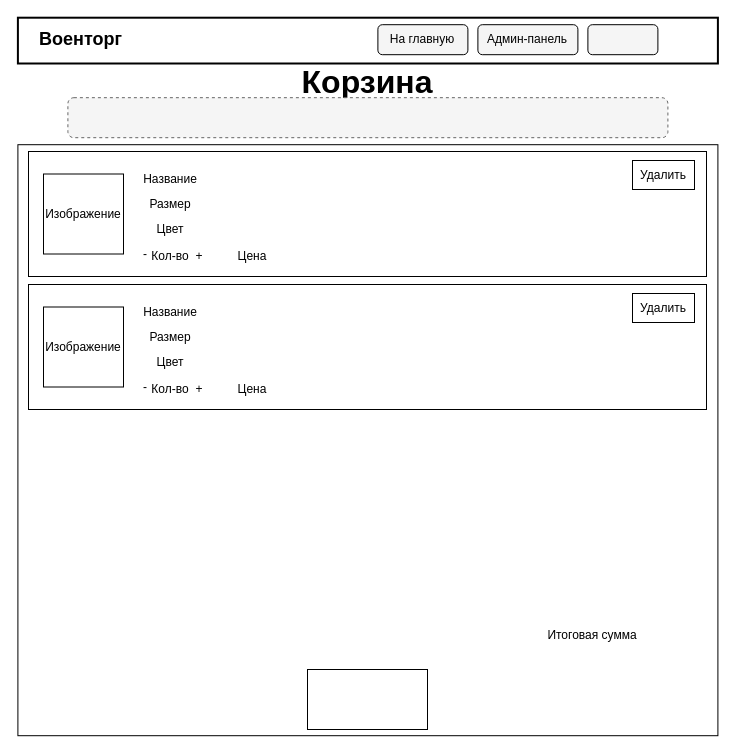
Some shapes in this 736 by 754 pixel diagram are drawn without their labels. Here are the shapes that lost their labels. From the top down, the box of each, then its label:
(587, 24, 658, 55): Выйти
(67, 97, 668, 138): Сообщения системы
(306, 668, 428, 730): Заказать
